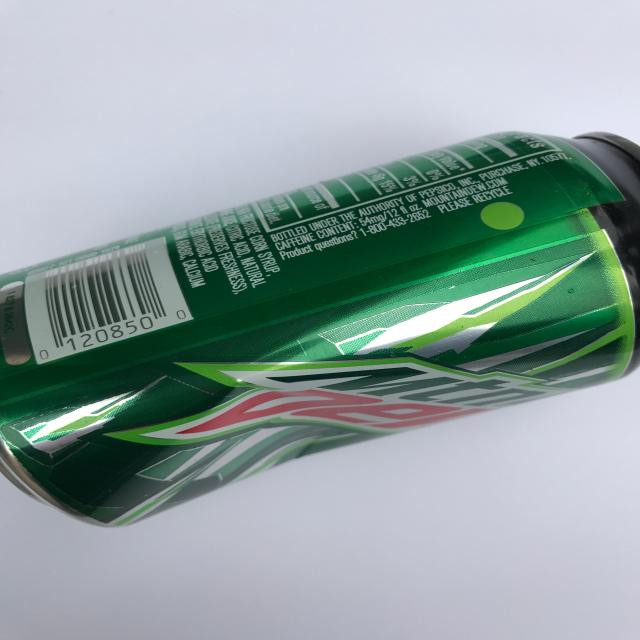metal: (1, 129, 639, 527)
